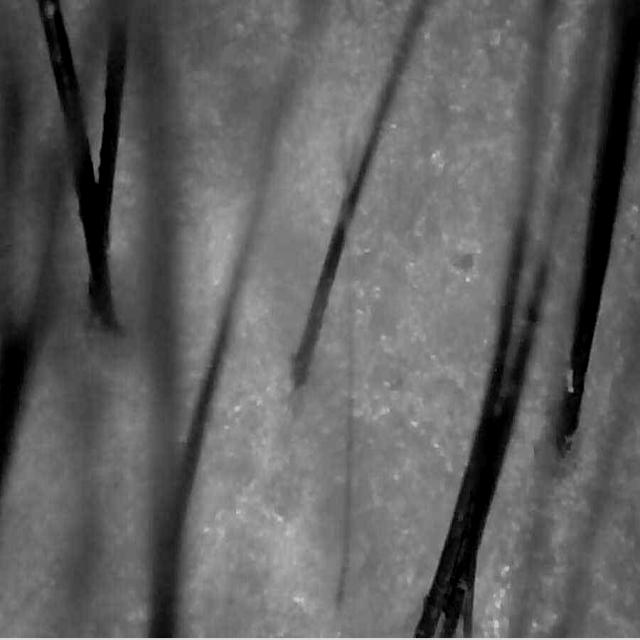ds: (237, 477, 358, 640)
o: (474, 543, 526, 638)
